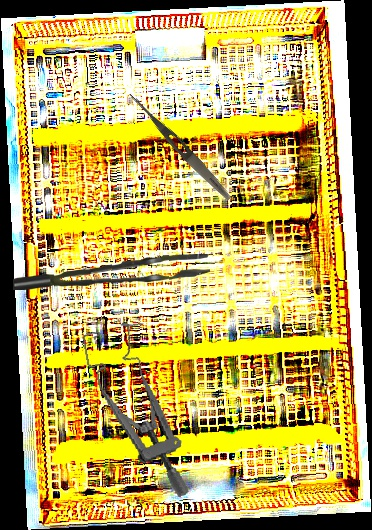Dressing Forceps: (124, 89, 235, 204)
Speculum: (79, 315, 193, 510)
Tissue Forceps: (13, 250, 210, 294)
